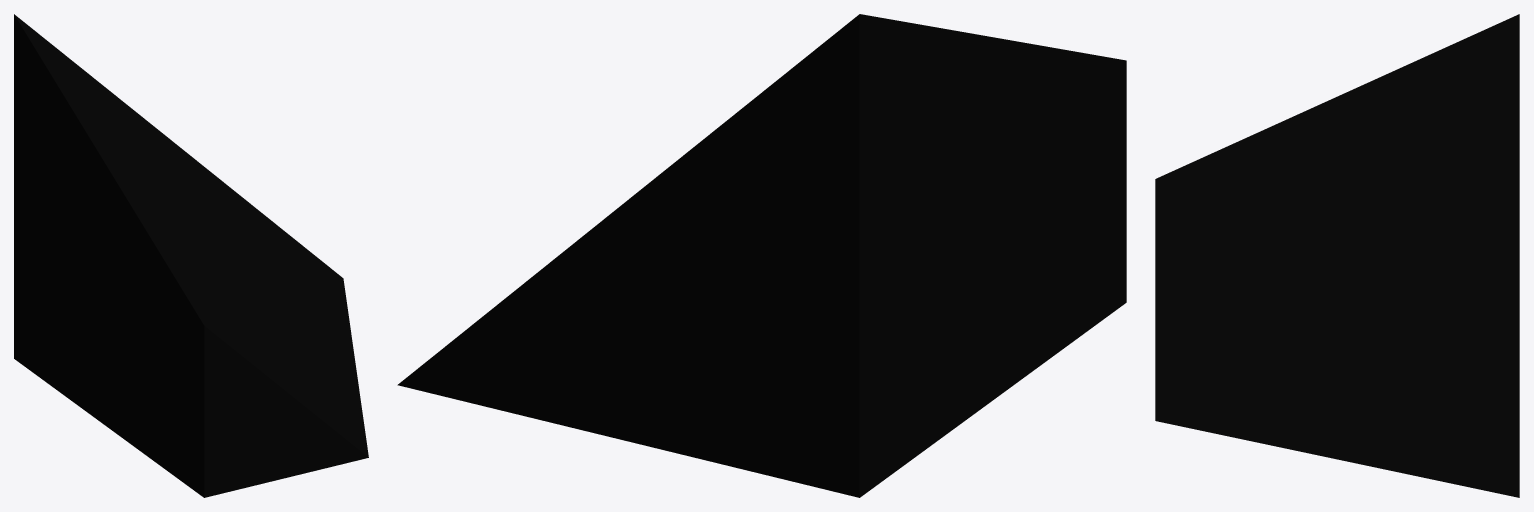
File: r5c2_body_black.glb
3 renders of one model, left to right at view 1: azimuth 30°, elevation 25°; view 2: azimuth 150°, elevation 25°; view 3: azimuth 270°, elevation 25°, orthographic. The views are drawn at different scales.
Visible parts, largest first — view 1: r5c2_body_black; view 2: r5c2_body_black; view 3: r5c2_body_black.
Boxes of the visible parts, x1,y1,x2,y2 form: r5c2_body_black: [14, 14, 368, 497]; r5c2_body_black: [397, 14, 1126, 497]; r5c2_body_black: [1155, 14, 1519, 497].
Size of what is drawn, in the model's own units: 2 by 2 by 2.
1 material, 1 textured.
